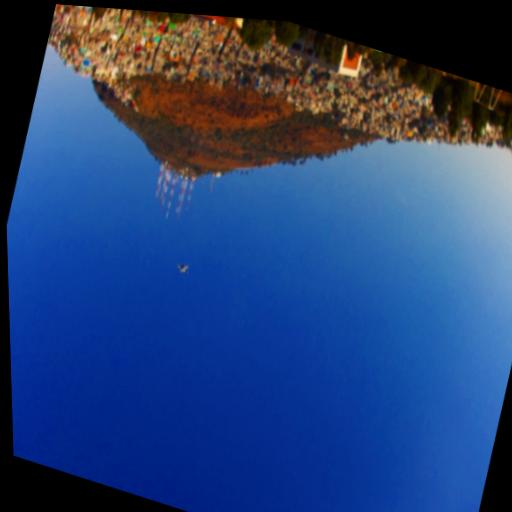drones: (168, 252, 197, 284)
